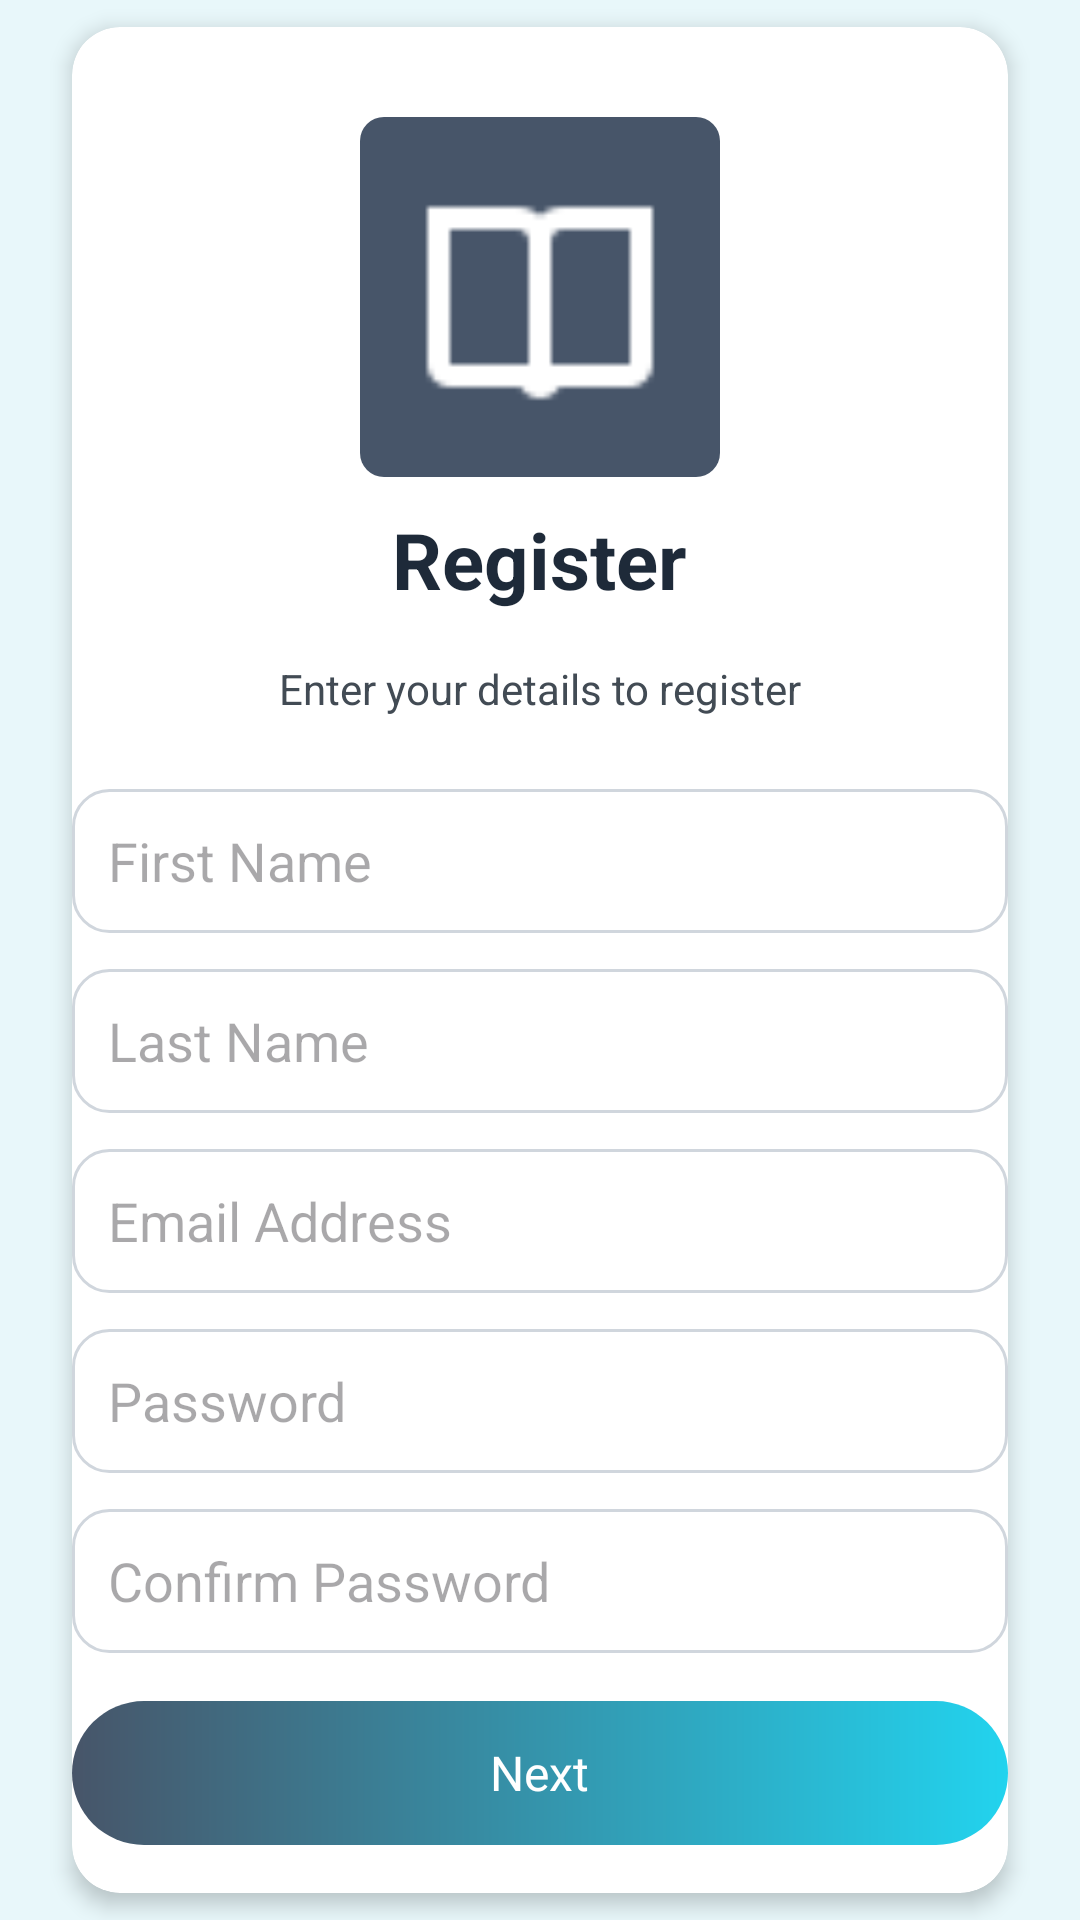

Locate icon controls on the screen. Image size 1080×1920, boxes as {"x1": x1, "y1": y1, "x2": x2, "y2": y2}.
book: {"x1": 425, "y1": 205, "x2": 655, "y2": 400}
